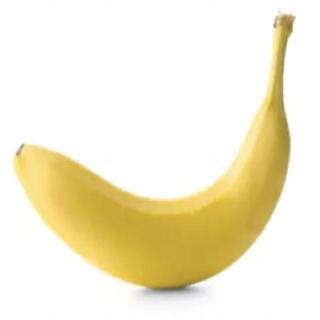banana: (10, 95, 292, 292)
